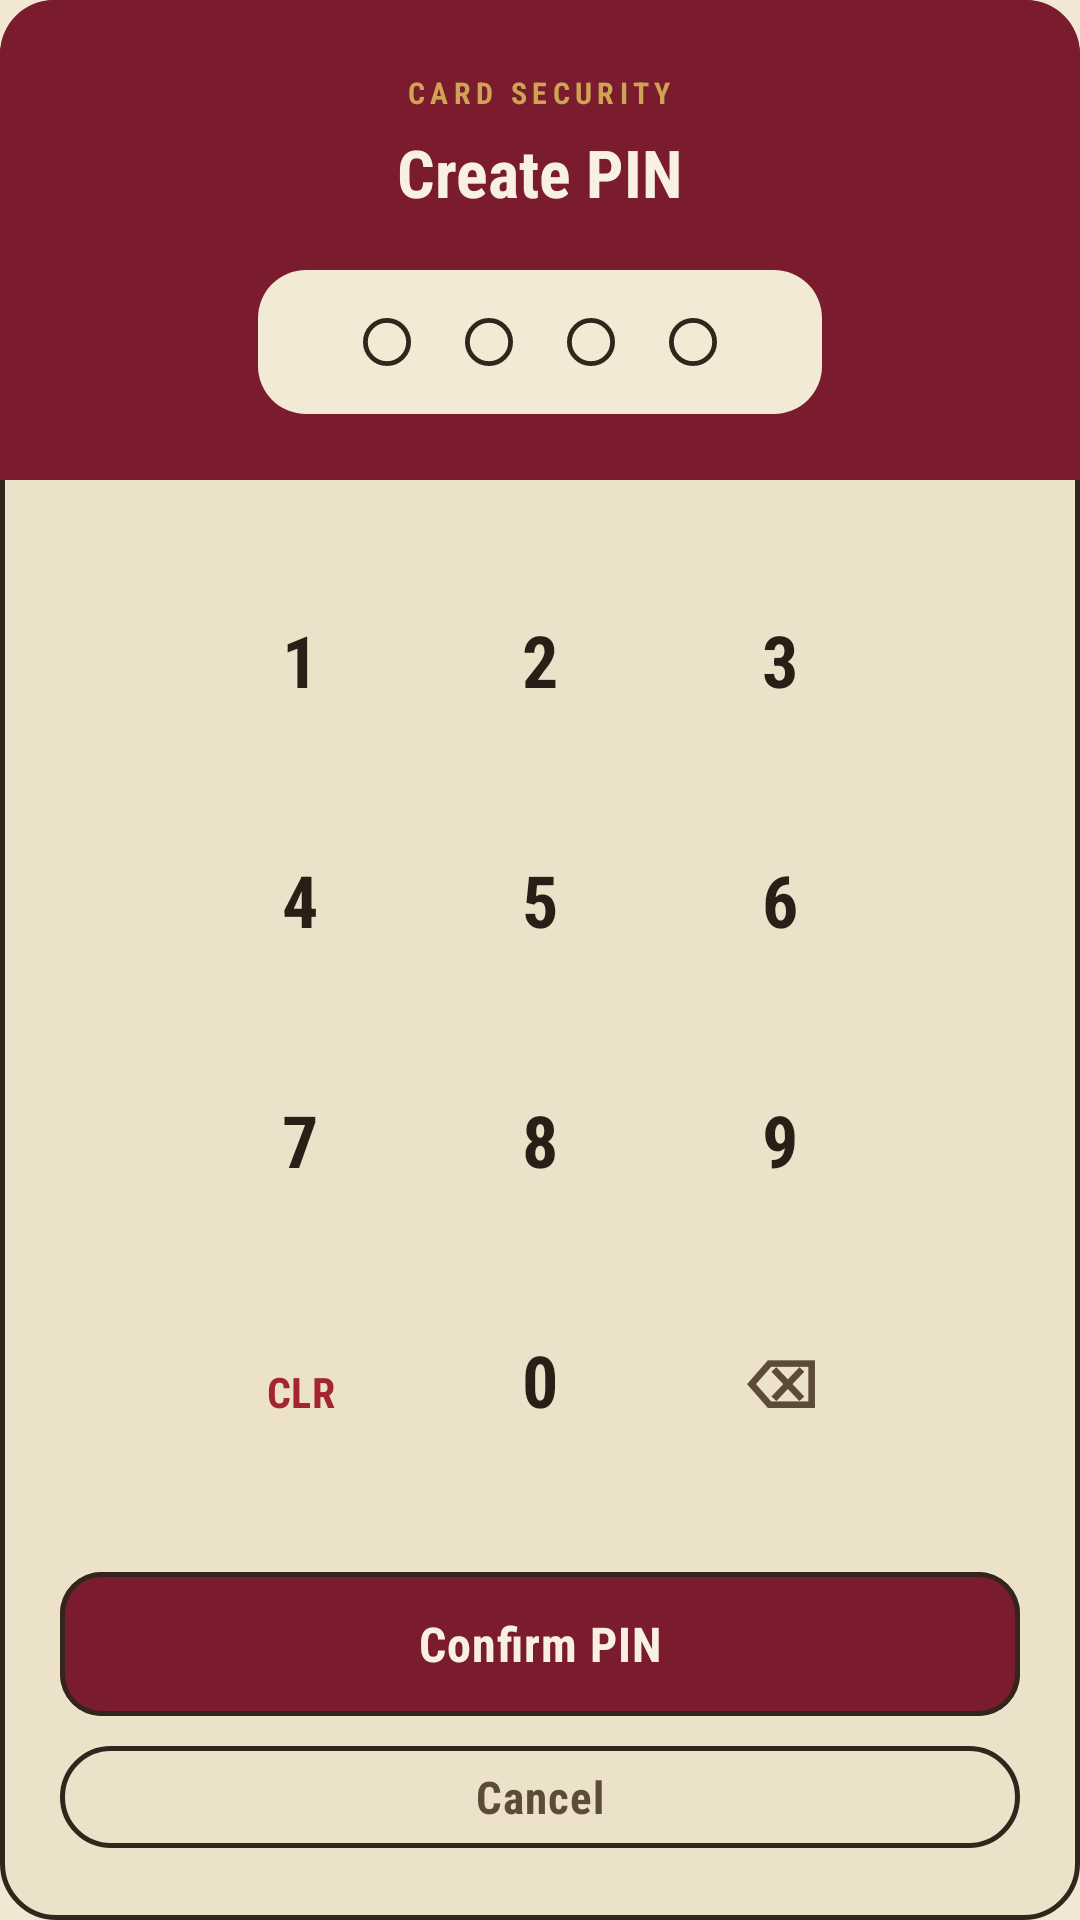

Locate icon controls on the screen. Image size 1080x1920, boxes as bbox=(x1, y1, x2, y2).
pin circle empty: bbox=(363, 318, 411, 366), bbox=(465, 318, 513, 366), bbox=(567, 318, 615, 366), bbox=(669, 318, 717, 366)
